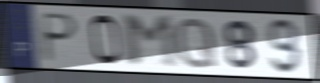0: (89, 13, 122, 67)
8: (223, 18, 259, 71)
9: (266, 17, 304, 77)
M: (120, 14, 181, 70)
P: (40, 11, 80, 64)
Q: (173, 15, 219, 71)
